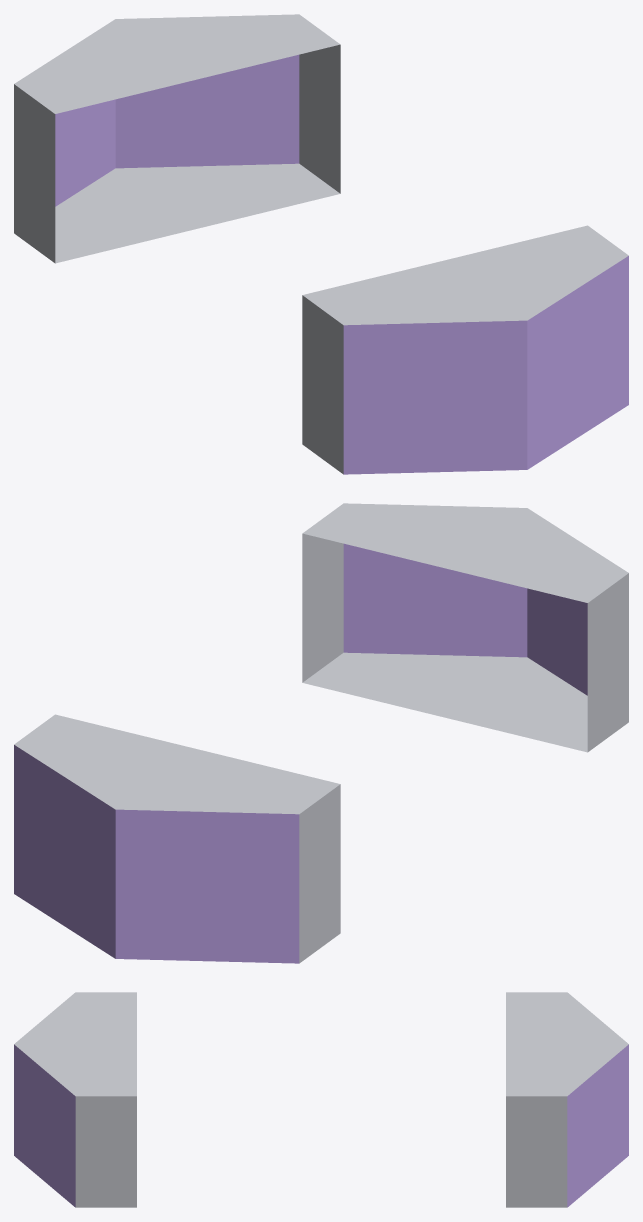
File: FiringPin_A.fbx
The picture shows the model from 3 angles, top to bottom: view 1: azimuth 30°, elevation 25°; view 2: azimuth 150°, elevation 25°; view 3: azimuth 270°, elevation 25°; orthographic projection. The views are drawn at different scales.
Visible parts, largest first — view 1: firingpin_a; view 2: firingpin_a; view 3: firingpin_a.
Part boxes in pixels (x1,y1,x2,y2): firingpin_a: (14, 14, 628, 474); firingpin_a: (14, 503, 628, 963); firingpin_a: (14, 992, 628, 1207).
Bounding box in the file's own units: 4 × 2 × 10.
